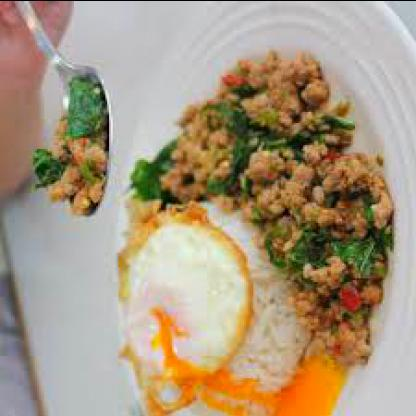Basil Rice: (35, 37, 414, 413)
